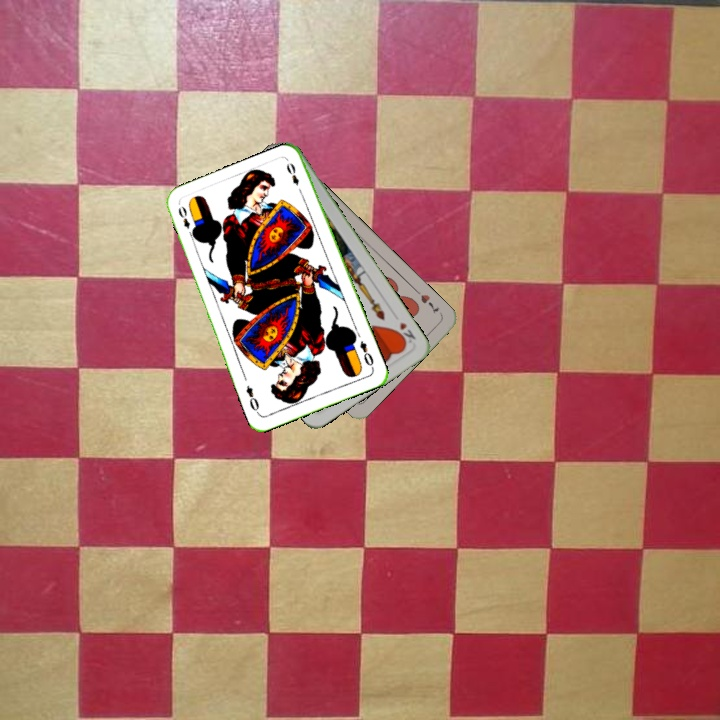EO: (174, 202, 197, 240), (356, 337, 376, 371)
H7: (411, 286, 442, 316)
HK: (392, 318, 418, 347)
